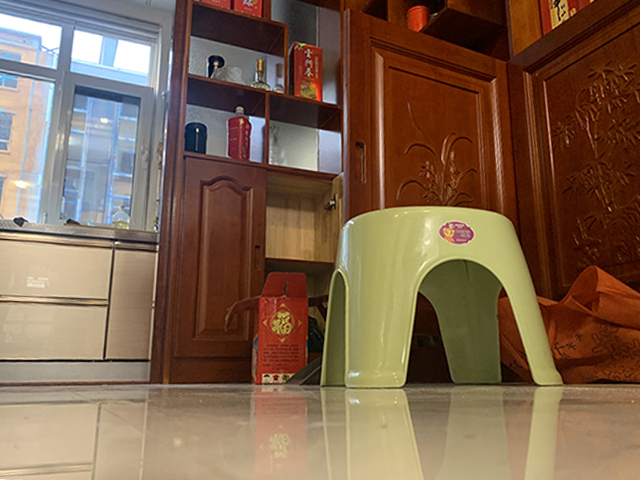cabinet: (158, 151, 342, 385), (1, 217, 158, 385)
stool: (319, 205, 562, 390)
